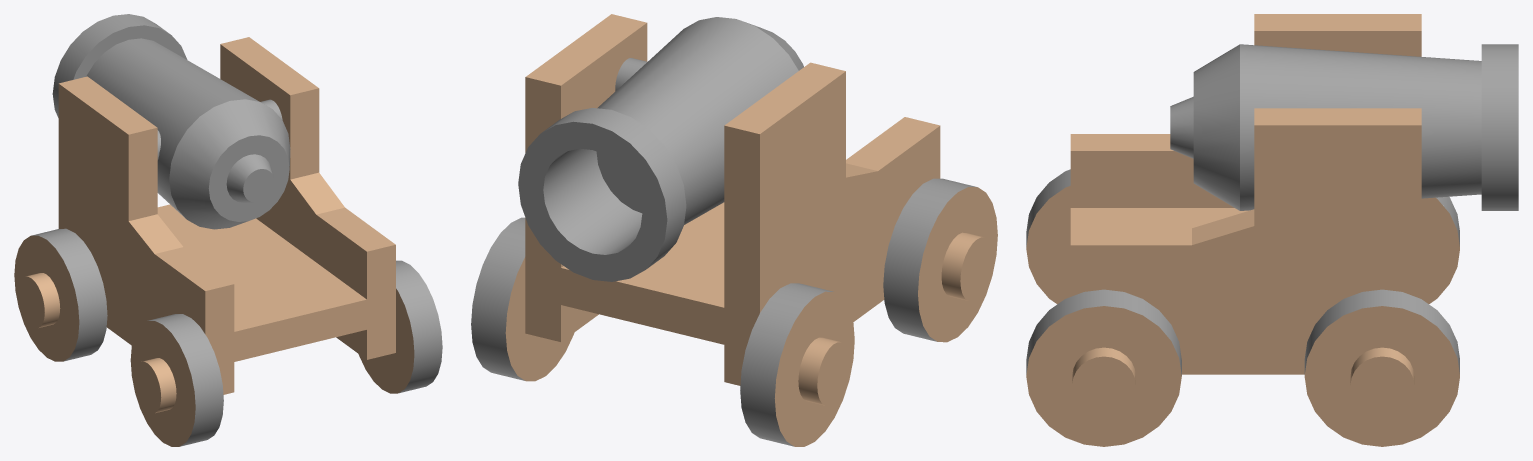
The picture shows the model from 3 angles, left to right: view 1: azimuth 30°, elevation 25°; view 2: azimuth 150°, elevation 25°; view 3: azimuth 270°, elevation 25°; orthographic projection. The views are drawn at different scales.
Parts seen in each view (by area): view 1: cannonMobile_8angles, barrel 2, wheel_frontLeft, wheel_backLeft, wheel_backRight; view 2: cannonMobile_8angles, barrel 2, wheel_backLeft, wheel_frontLeft, wheel_frontRight; view 3: cannonMobile_8angles, barrel 2, wheel_backRight, wheel_frontRight, wheel_backLeft, wheel_frontLeft.
Boxes of the visible parts, <box> form: cannonMobile_8angles: <box>58,37,395,394</box>; barrel 2: <box>52,14,290,229</box>; wheel_frontLeft: <box>14,228,107,361</box>; wheel_backLeft: <box>130,314,223,446</box>; wheel_backRight: <box>358,260,442,393</box>; cannonMobile_8angles: <box>525,14,940,385</box>; barrel 2: <box>518,17,803,281</box>; wheel_backLeft: <box>883,178,997,342</box>; wheel_frontLeft: <box>740,283,854,446</box>; wheel_frontRight: <box>471,217,574,381</box>; cannonMobile_8angles: <box>1070,14,1421,374</box>; barrel 2: <box>1170,44,1518,210</box>; wheel_backRight: <box>1026,289,1181,446</box>; wheel_frontRight: <box>1304,289,1459,446</box>; wheel_backLeft: <box>1026,169,1070,304</box>; wheel_frontLeft: <box>1421,196,1459,303</box>.
Size of the model in its own units: 0.6329 by 0.5886 by 0.8128.
